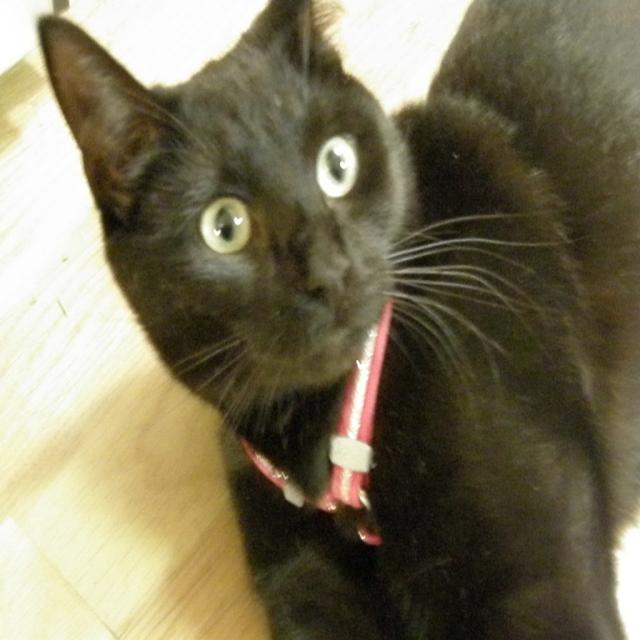Cat: (33, 0, 638, 638)
